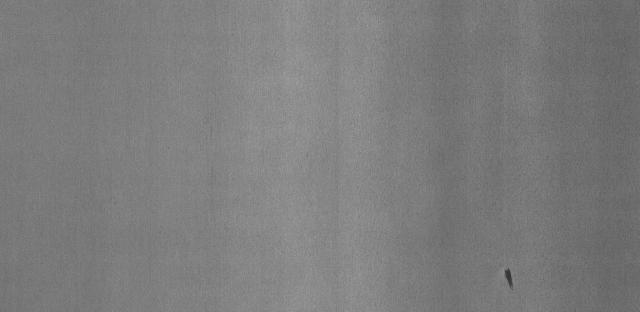inclusion: (496, 261, 523, 298)
